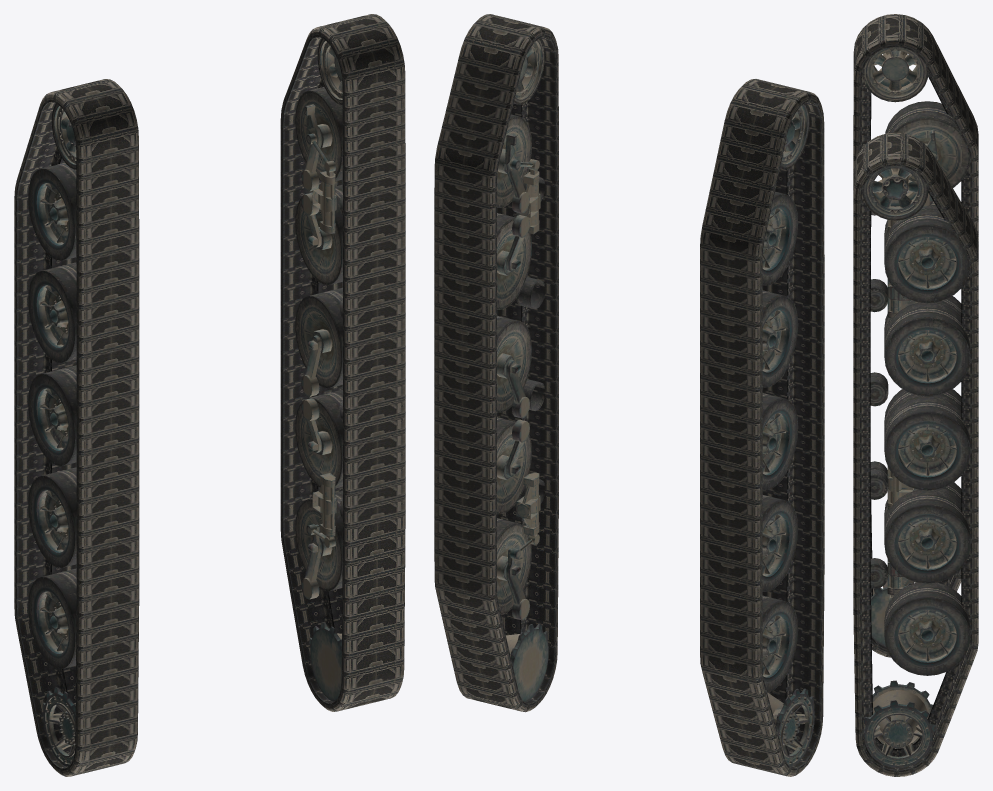
The model's file is Chassis.glb.
3 views of the same model, side by side, from view 1: azimuth 30°, elevation 25°; view 2: azimuth 150°, elevation 25°; view 3: azimuth 270°, elevation 25° (orthographic). The views are drawn at different scales.
Visible parts, largest first — view 1: set_0_group_0, set_1_group_0, set_3_group_0, set_2_group_0; view 2: set_0_group_0, set_1_group_0, set_3_group_0, set_2_group_0; view 3: set_3_group_0, set_1_group_0, set_2_group_0, set_0_group_0.
Part boxes in pixels (x1,y1,x2,y2): set_0_group_0: (14,79,139,776); set_1_group_0: (280,14,405,711); set_3_group_0: (295,38,342,701); set_2_group_0: (28,103,76,766); set_0_group_0: (700,79,824,776); set_1_group_0: (434,14,558,712); set_3_group_0: (497,38,548,701); set_2_group_0: (762,103,814,766); set_3_group_0: (862,166,970,767); set_1_group_0: (853,132,978,776); set_2_group_0: (862,47,969,646); set_0_group_0: (853,14,978,657).
Size of the model in its own units: 3.11 by 6.19 by 1.14.
Materials: 4 (4 with a texture image).
